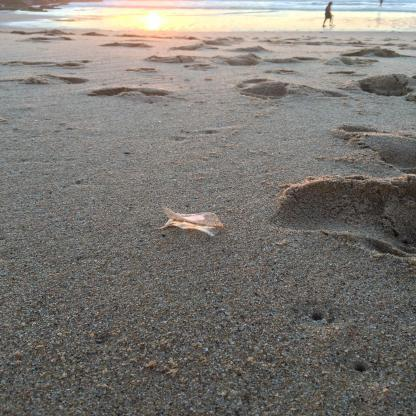plastik: (160, 206, 225, 238)
